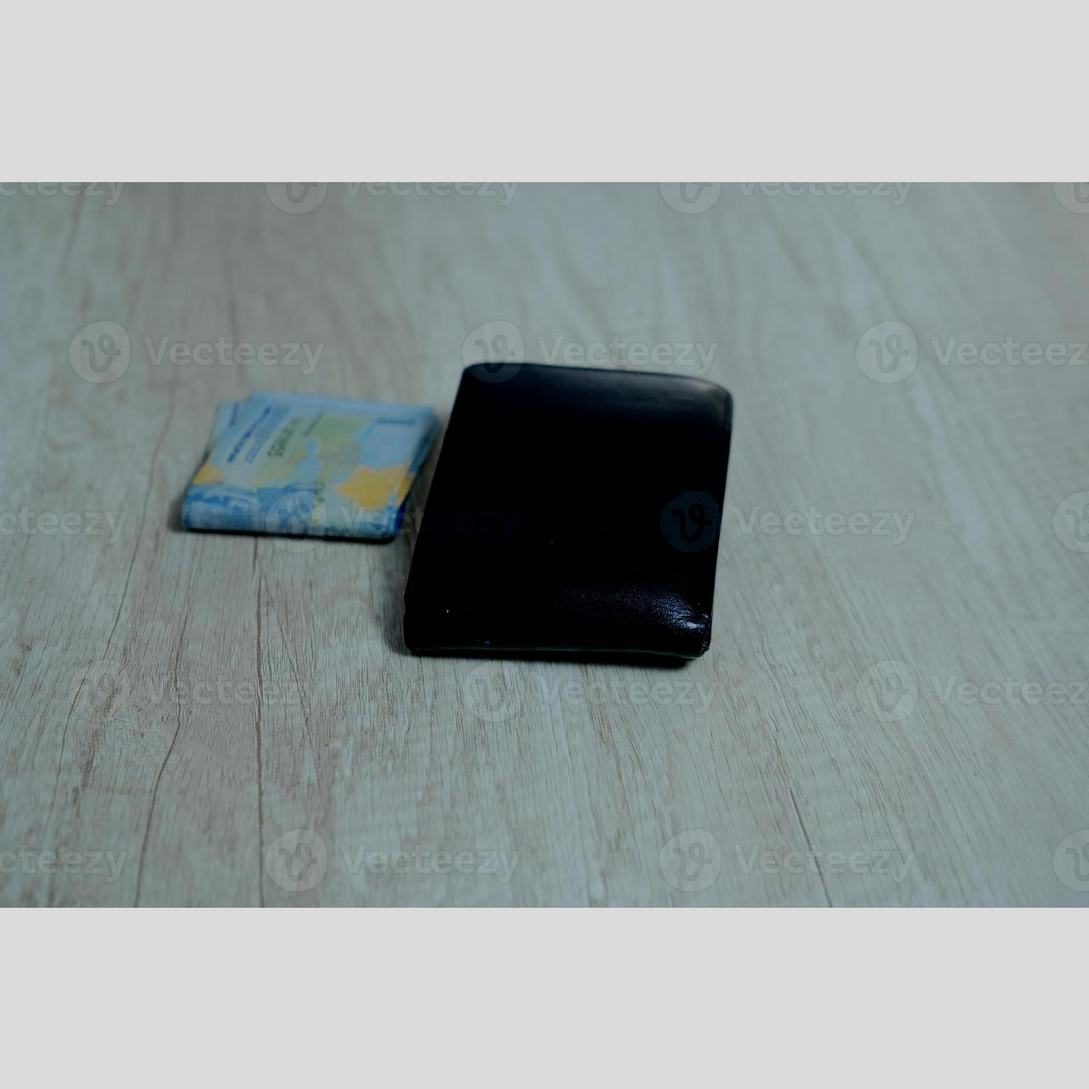wallet: (408, 347, 776, 690)
